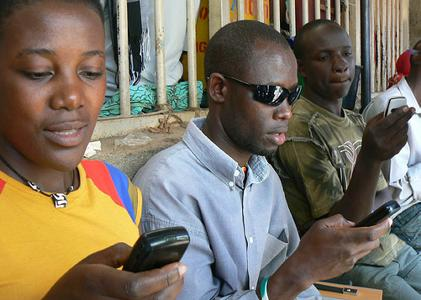person: (130, 20, 393, 300)
